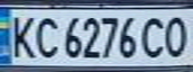2: (78, 12, 103, 60)
6: (115, 13, 142, 60), (60, 12, 84, 60)
7: (100, 12, 121, 60)
C: (139, 13, 172, 60), (30, 13, 60, 60)
K: (3, 11, 39, 60)
O: (160, 12, 193, 59)
